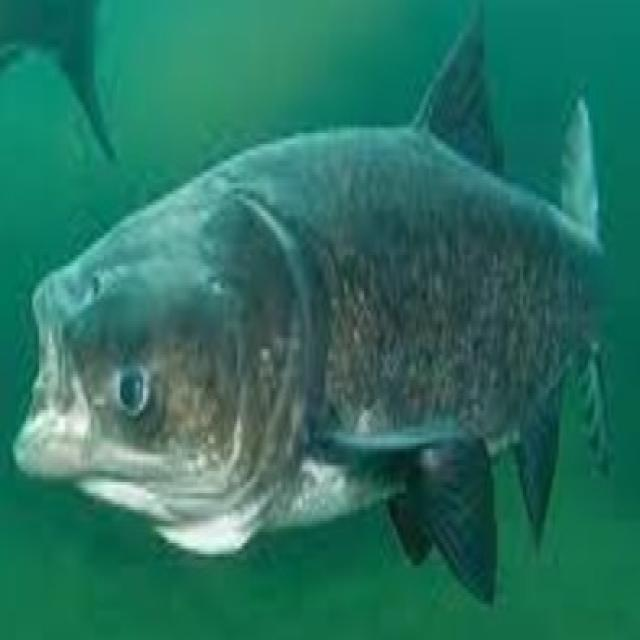Big-Head-Carp: (12, 2, 635, 620)
